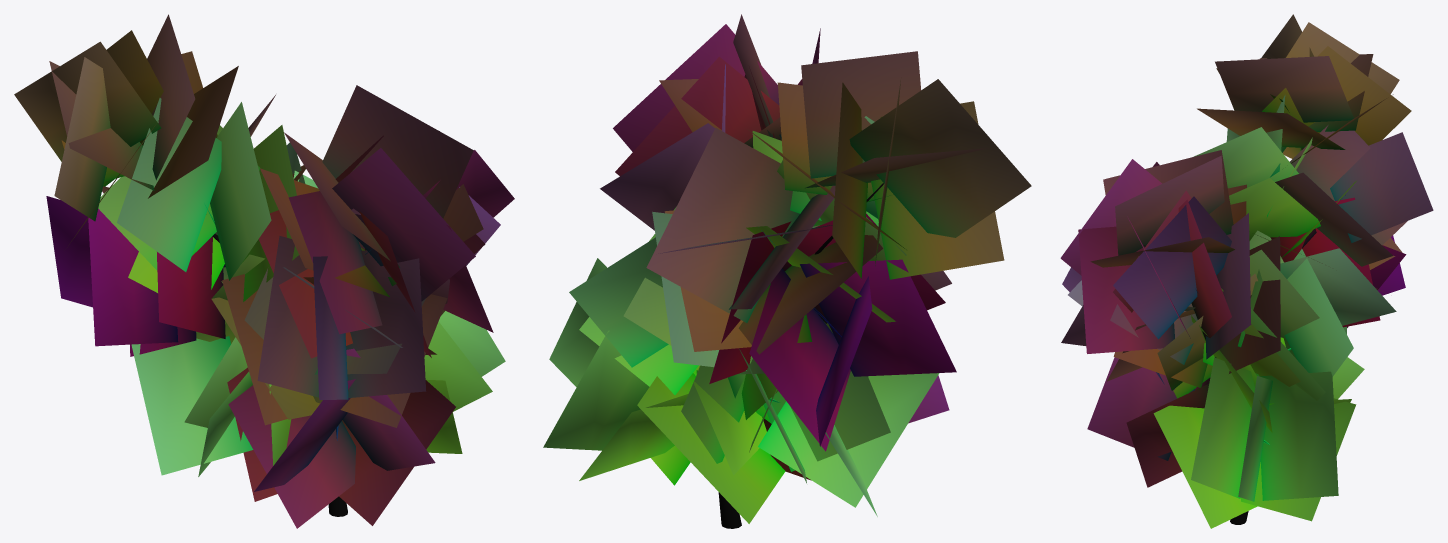
Rendered from URP_P15_Tree_7_LOD_2.fbx.
3 views of the same model, side by side, from view 1: azimuth 30°, elevation 25°; view 2: azimuth 150°, elevation 25°; view 3: azimuth 270°, elevation 25° (orthographic). The views are drawn at different scales.
Parts seen in each view (by area): view 1: Tree_7_LOD_2; view 2: Tree_7_LOD_2; view 3: Tree_7_LOD_2.
Boxes of the visible parts, left/top/right/bottom form: Tree_7_LOD_2: left=14, top=14, right=514, bottom=528; Tree_7_LOD_2: left=543, top=14, right=1031, bottom=528; Tree_7_LOD_2: left=1060, top=14, right=1433, bottom=528.
Size of the model in its own units: 674 by 705 by 571.
